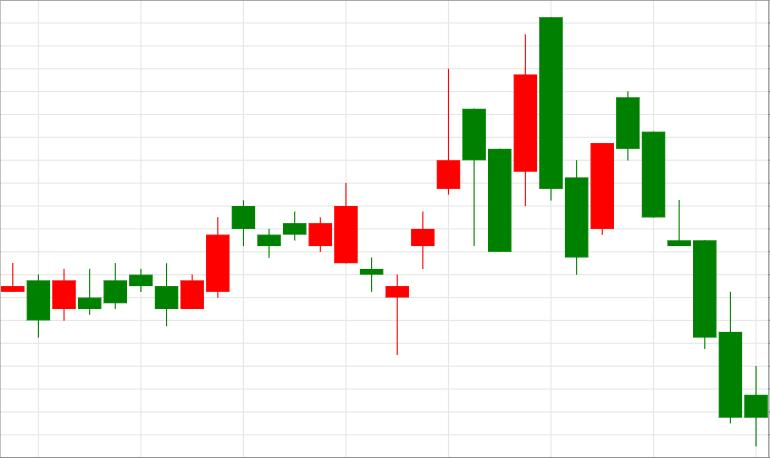hanging_man_fall: (386, 70, 486, 355)
